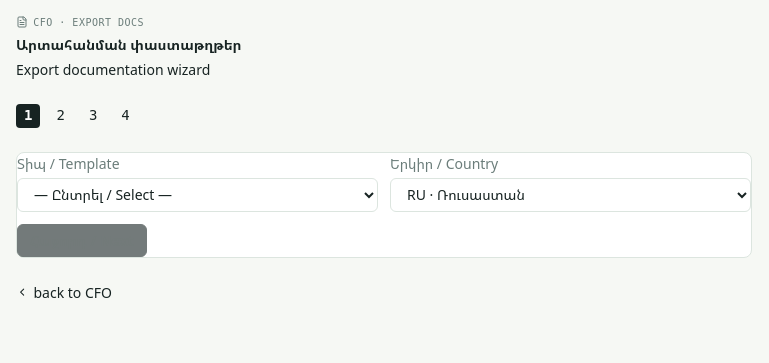
Test case: ExportDocs — auto-fill POST › renders the draft + lines when auto-fill resolves
Select "Արտահանման հաշիվ / Export invoice" in the dropdown with test id "export-docs-template-select" at (198, 195), box [17, 178, 378, 212]
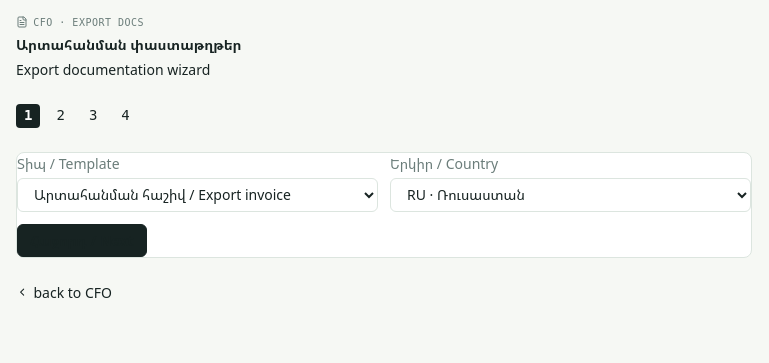
Click the button with test id "export-docs-next-button" at (82, 240), box [17, 224, 146, 257]
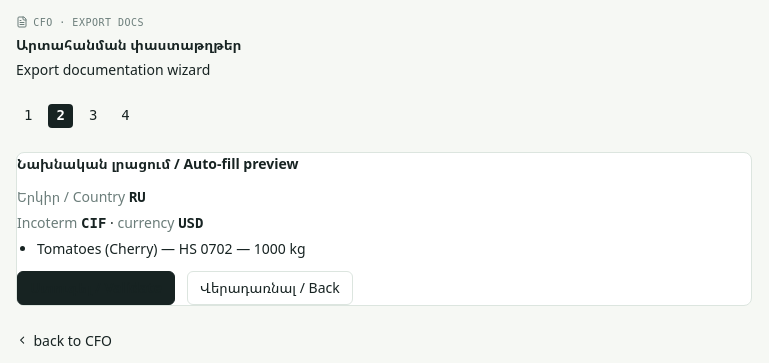
Result: the element with test id "export-docs-draft" is shown at [17, 187, 306, 258]
Result: the element with test id "export-docs-step-2-panel" is shown at [16, 152, 752, 306]
Result: the list item with test id "export-docs-draft-line" shows "HS 0702" at [37, 239, 306, 258]
